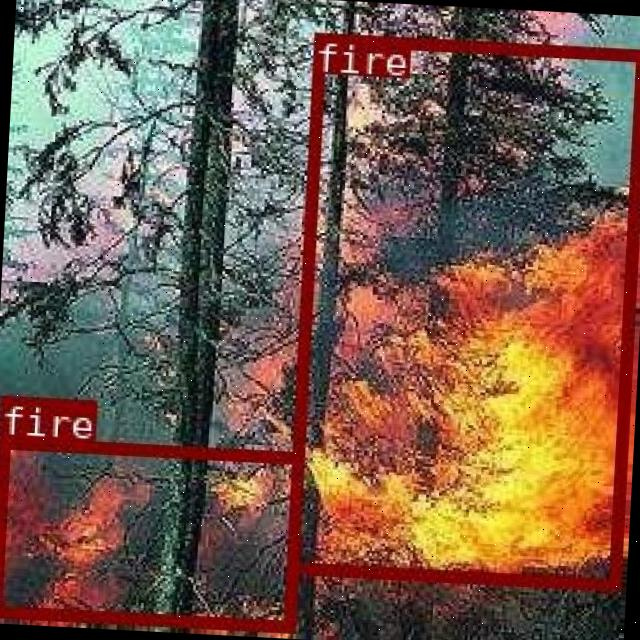fire: (284, 30, 640, 588), (0, 436, 302, 631)
